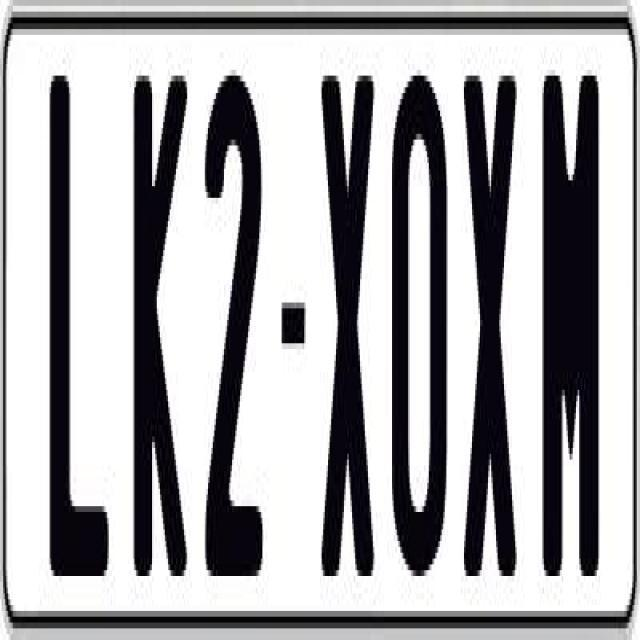0: (387, 64, 445, 594)
2: (200, 58, 258, 564)
K: (132, 70, 186, 576)
L: (48, 63, 114, 564)
M: (540, 70, 598, 582)
X: (316, 76, 378, 594), (460, 58, 516, 582)
